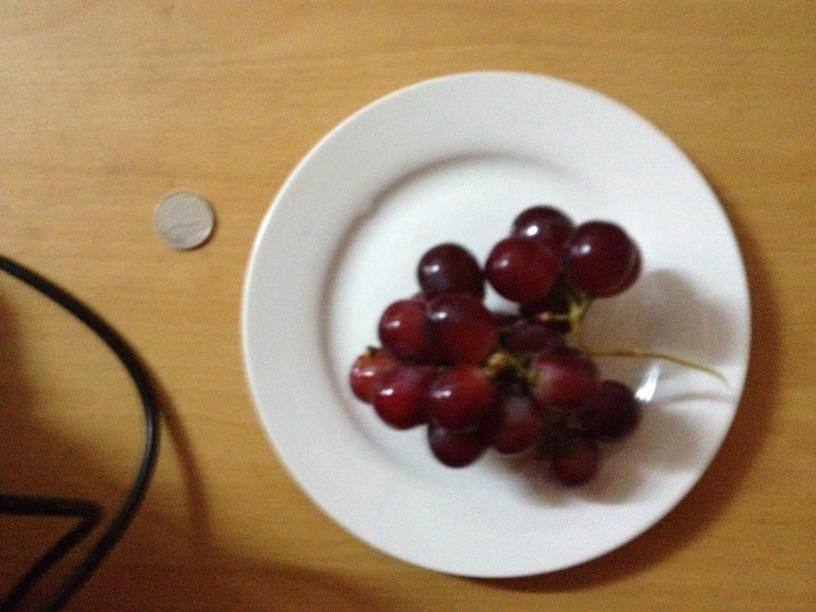coin: (153, 191, 215, 248)
grape: (353, 192, 639, 486)
